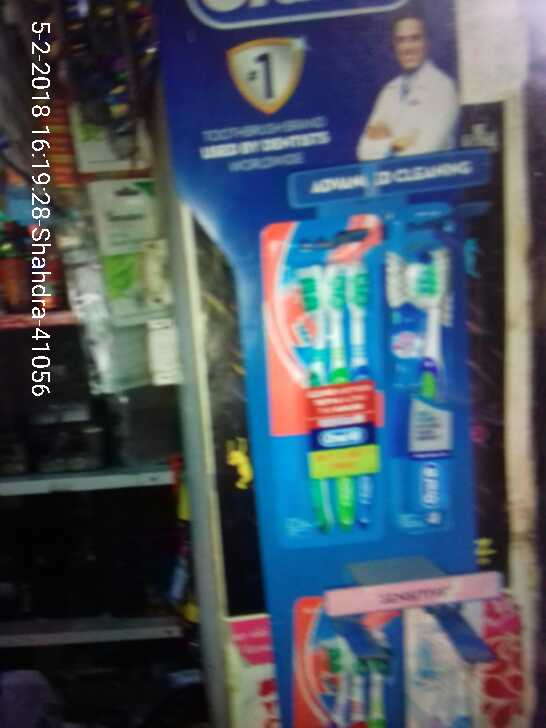oralb: (378, 247, 463, 524), (292, 259, 375, 533)
